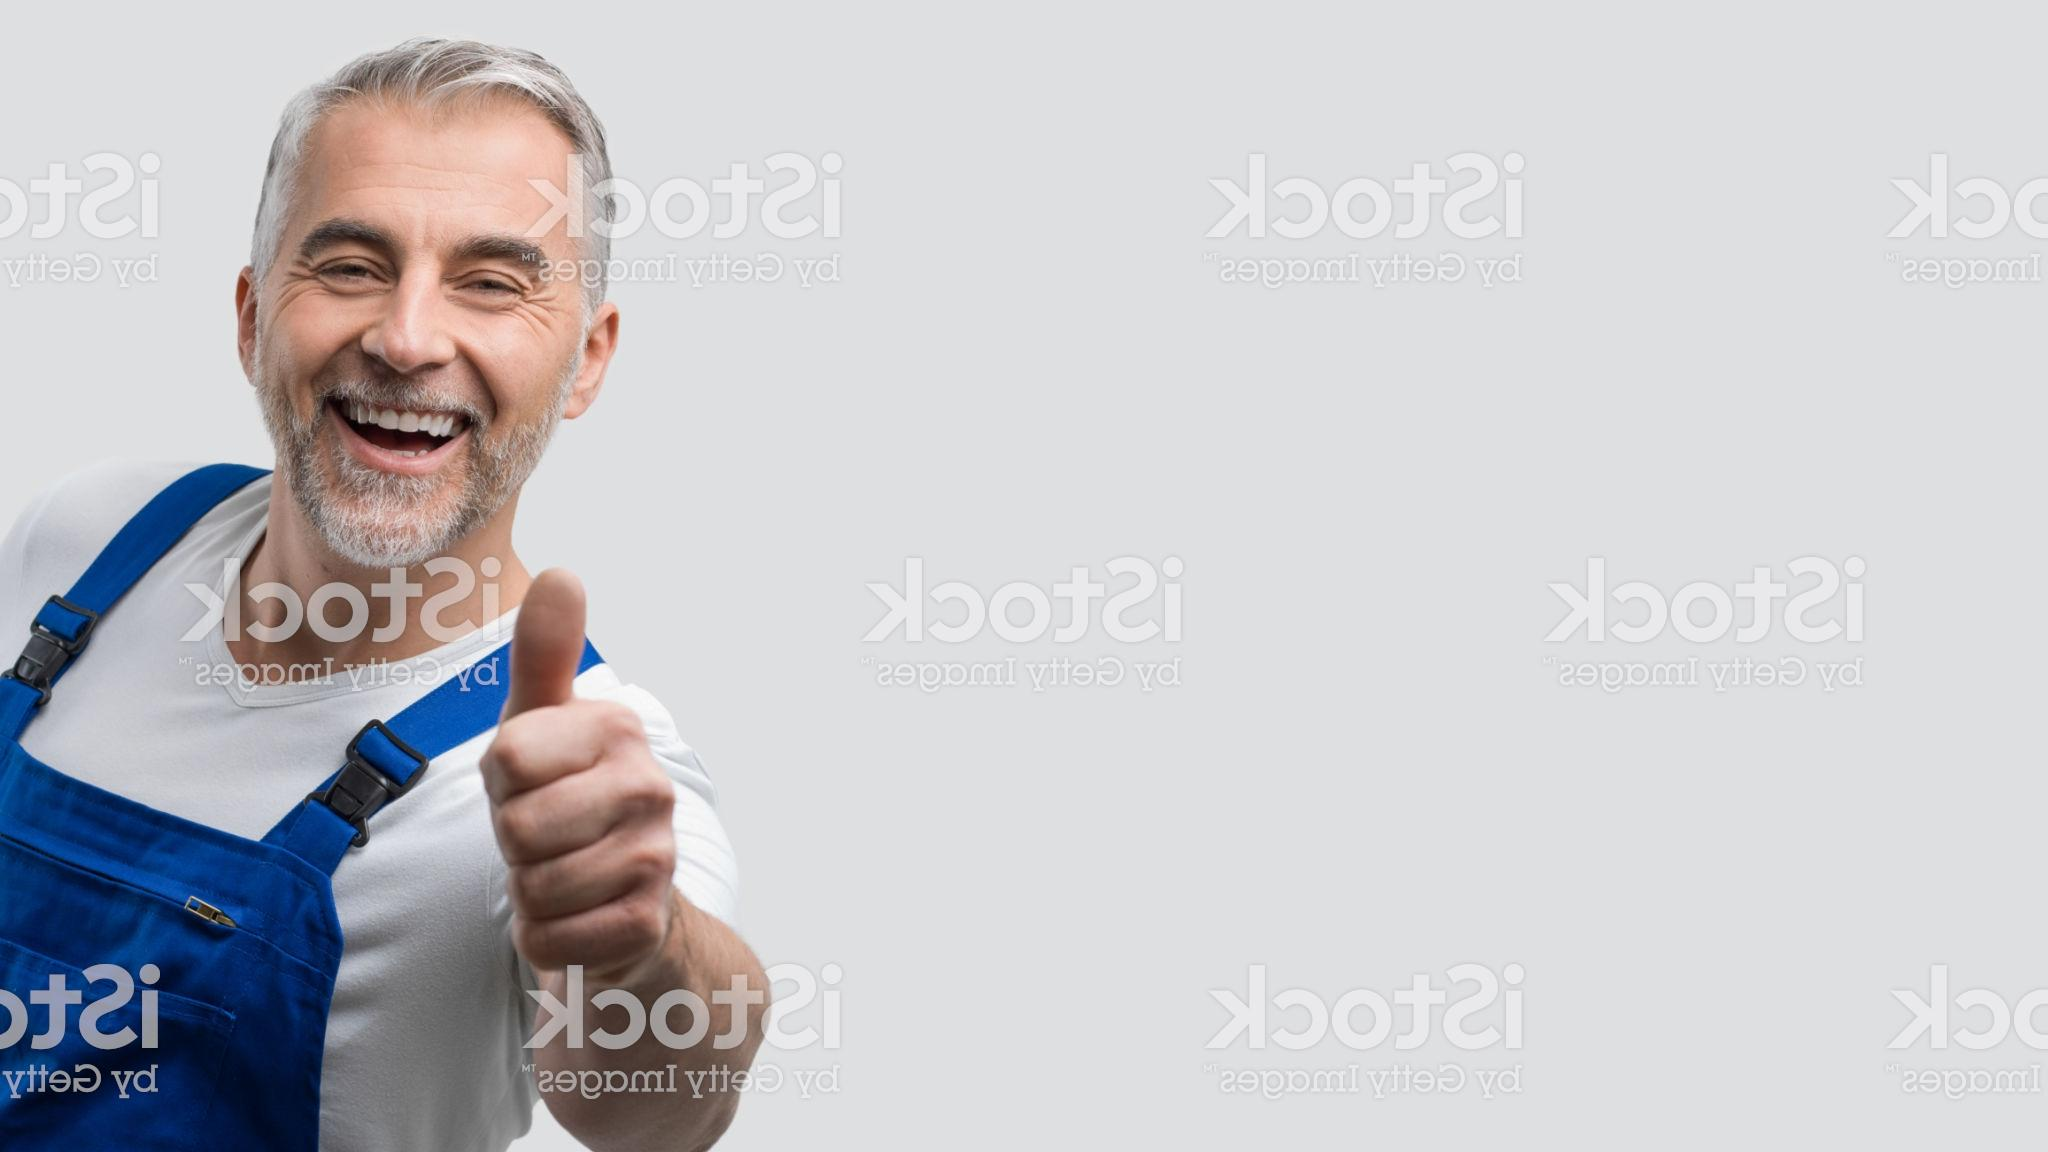thumbsup: (475, 567, 679, 983)
